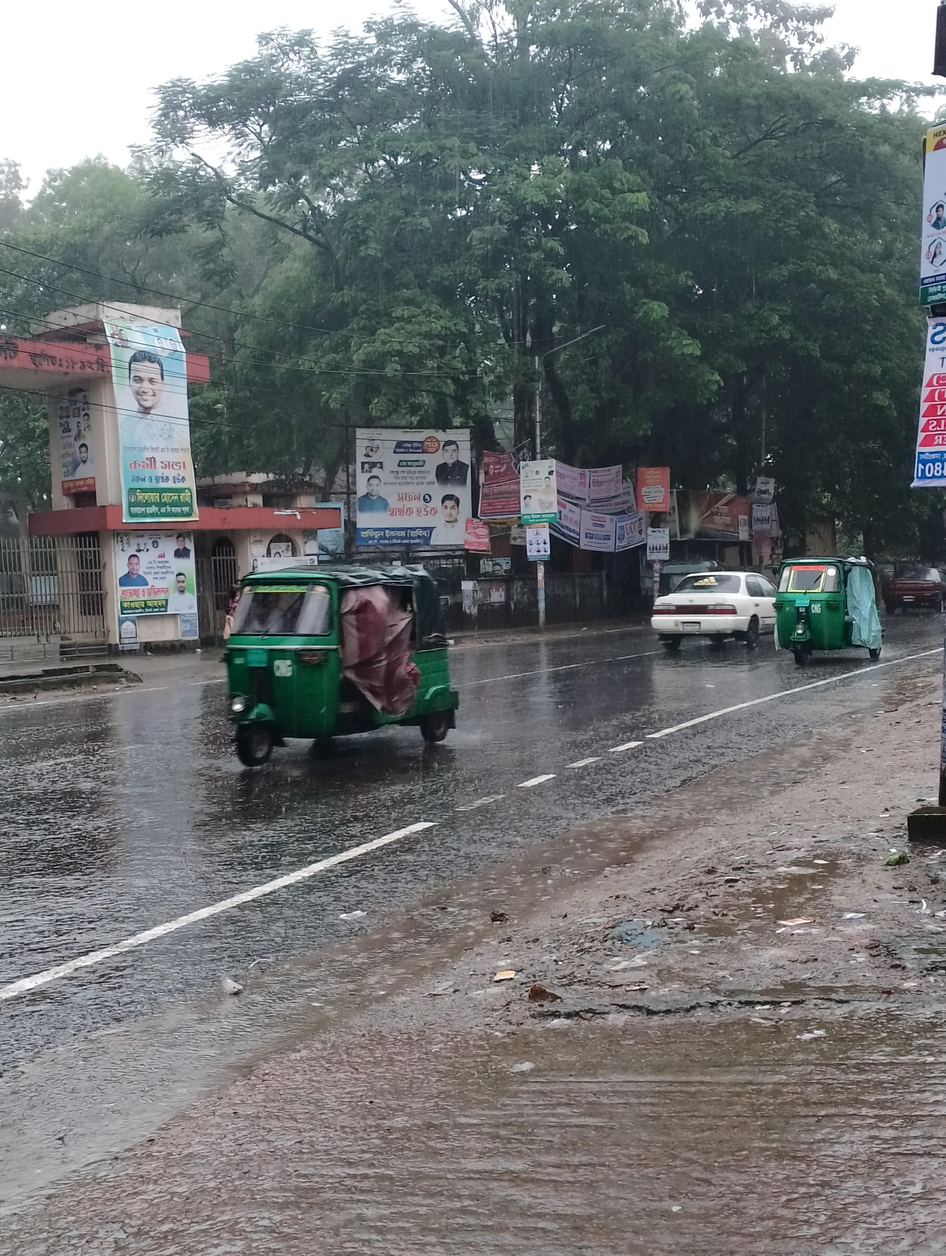Car: (641, 553, 781, 678)
